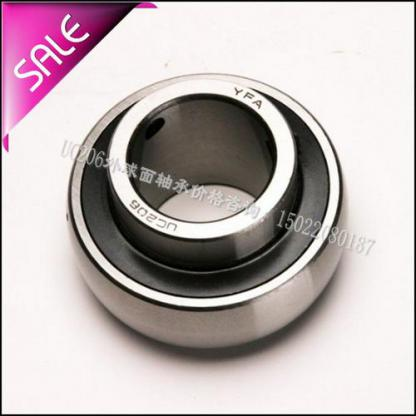FOD: (61, 66, 352, 351)
